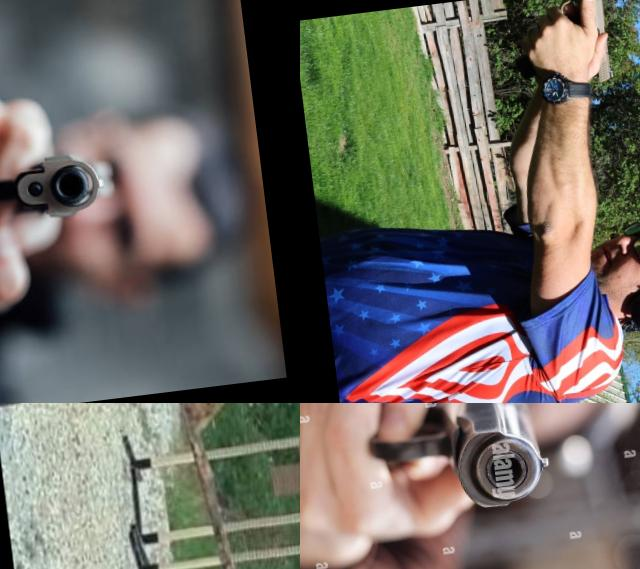handgun: (342, 403, 554, 528), (504, 0, 618, 99), (0, 143, 119, 236)
